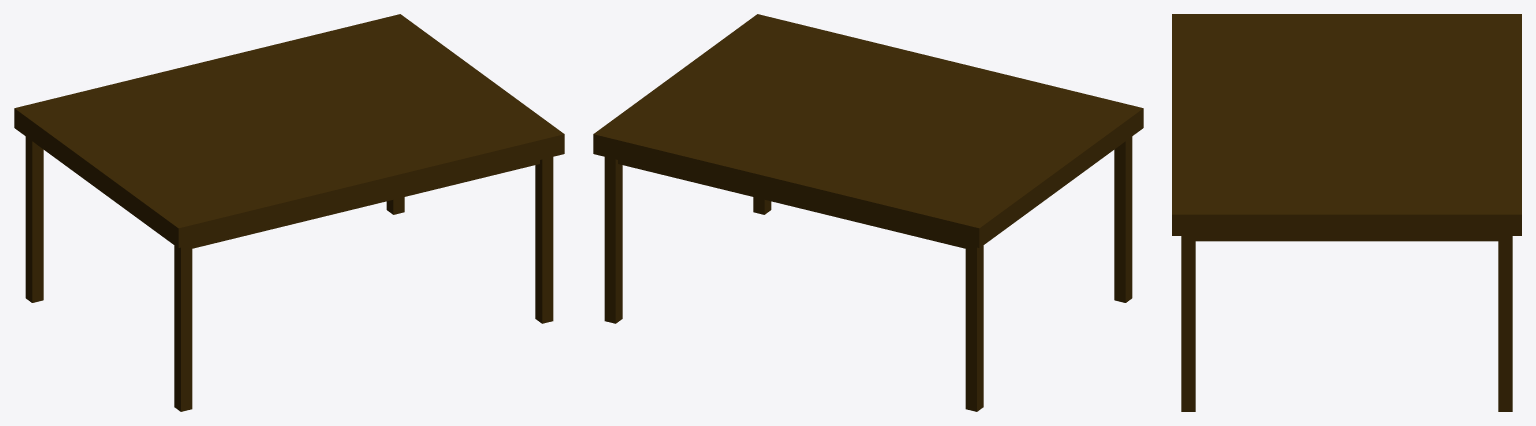
File: square table.fbx
3 renders of one model, left to right at view 1: azimuth 30°, elevation 25°; view 2: azimuth 150°, elevation 25°; view 3: azimuth 270°, elevation 25°, orthographic. The views are drawn at different scales.
Visible parts, largest first — view 1: Cube; view 2: Cube; view 3: Cube.
Boxes of the visible parts, x1=… form: Cube: x1=14, y1=14, x2=564, y2=411; Cube: x1=593, y1=14, x2=1143, y2=411; Cube: x1=1172, y1=14, x2=1521, y2=411.
Bounding box in the file's own units: 815 × 380 × 600.
